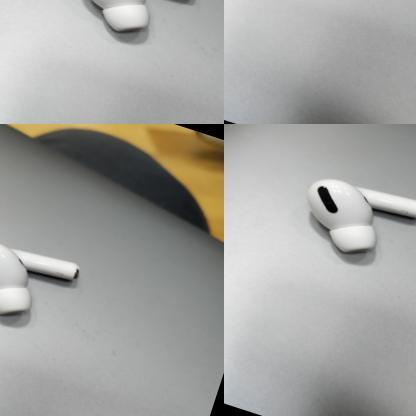Airpods: (282, 162, 416, 285), (0, 240, 127, 354), (252, 0, 366, 39)
